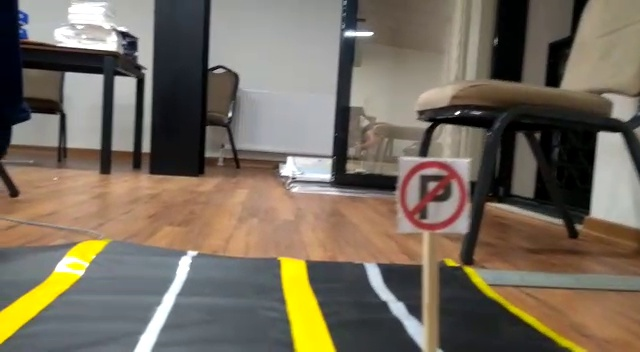park_yapilmaz: (401, 154, 466, 229)
